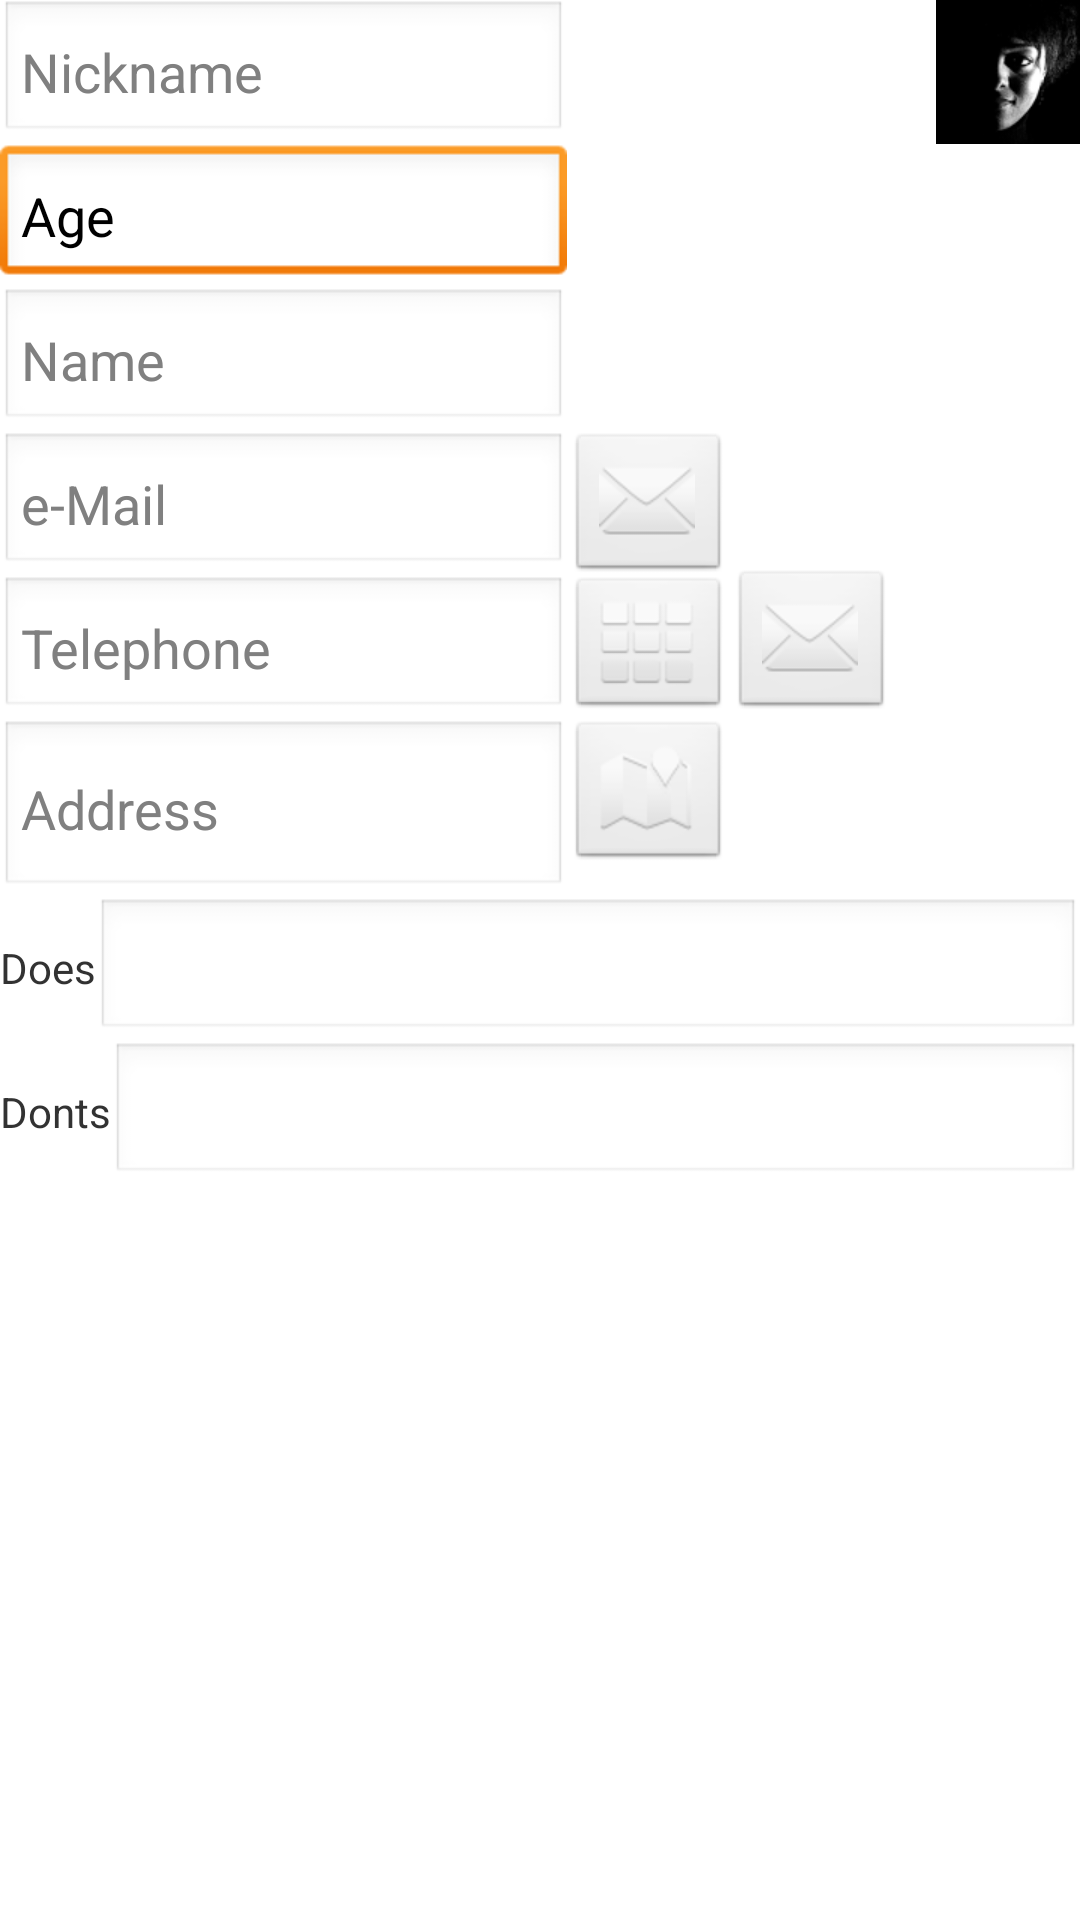

Icon click points for this 1080 × 1920 phone screenshot, format (x=x, y=y):
dialer: (x=648, y=643)
map: (x=648, y=790)
